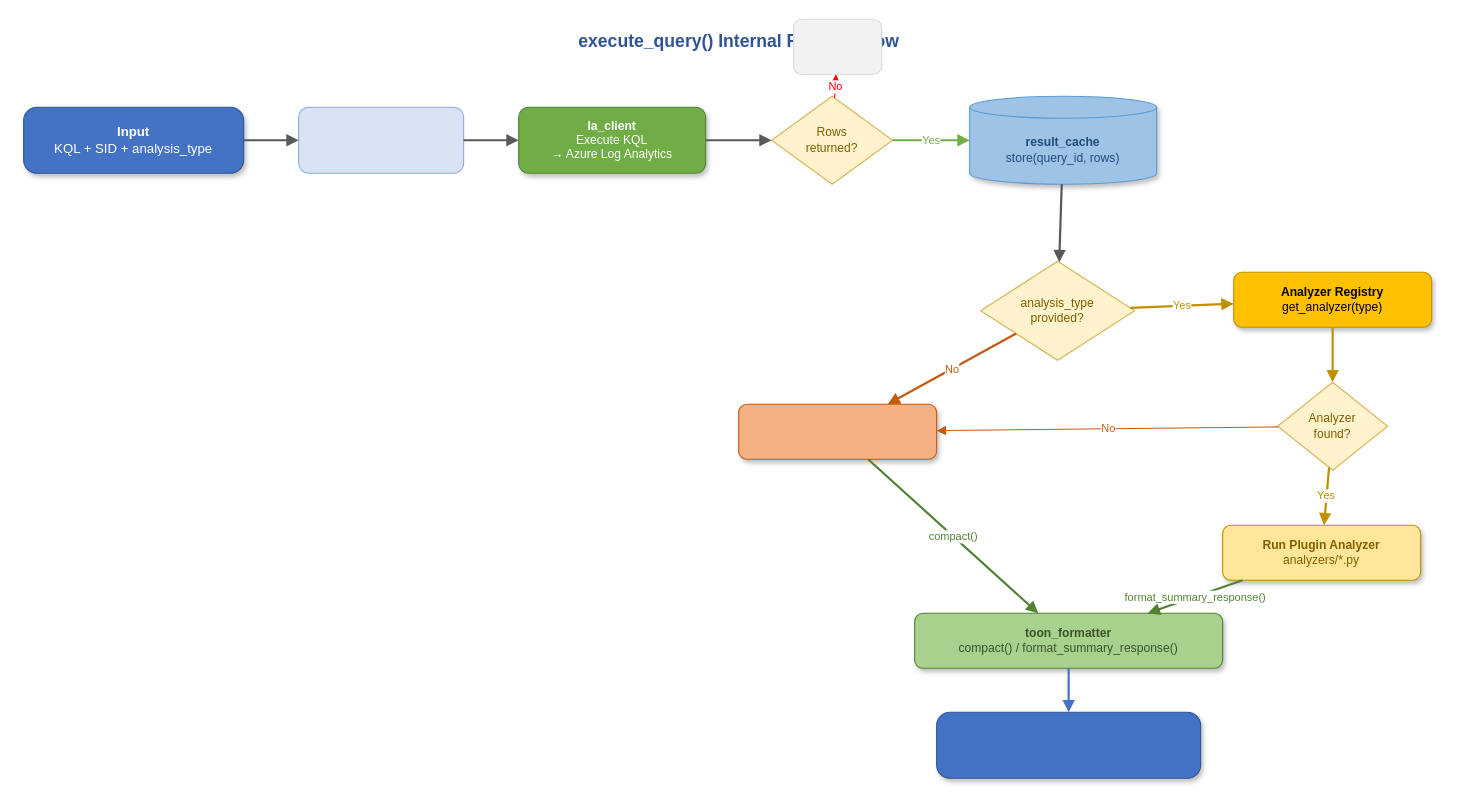
Image size: 1458x805. Some labels were removed from this diagram. The centre of each missing label's shape, as x and y in pixels:
generic_summarizer Stats + 3 samples: [838,433]
Return no_data: [837,46]
Return to Model Compact summary + query_id ~3 KB instead of ~14 KB: [1069,746]
Validate KQL Read-only check: [381,139]
